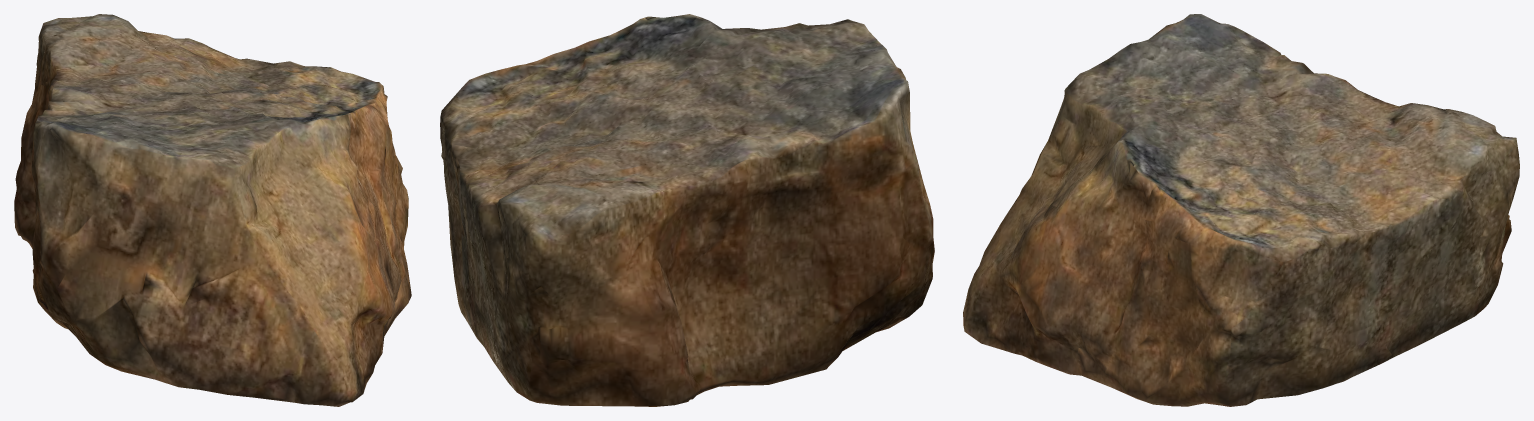
File: boulder_b.glb
The picture shows the model from 3 angles, left to right: view 1: azimuth 30°, elevation 25°; view 2: azimuth 150°, elevation 25°; view 3: azimuth 270°, elevation 25°; orthographic projection. The views are drawn at different scales.
Parts seen in each view (by area): view 1: boulder_03_LOD0; view 2: boulder_03_LOD0; view 3: boulder_03_LOD0.
Part boxes in pixels (left/top/right/bottom): boulder_03_LOD0: left=14, top=14, right=411, bottom=406; boulder_03_LOD0: left=440, top=14, right=934, bottom=406; boulder_03_LOD0: left=963, top=14, right=1519, bottom=406.
Bounding box in the file's own units: 2.4 × 1.47 × 3.06.
1 material, 1 textured.
